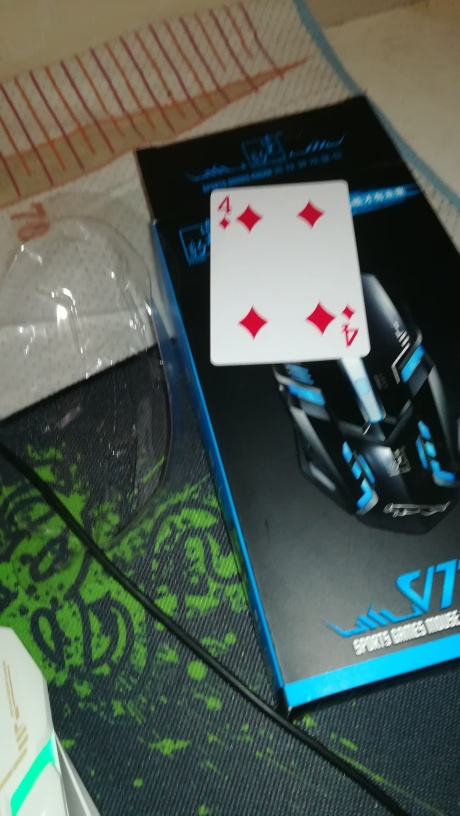fk 4: (208, 177, 373, 369)
